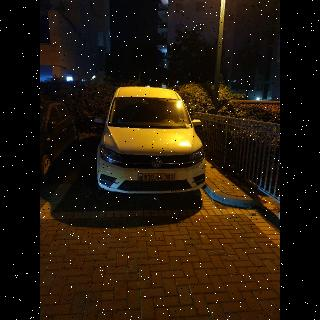LicensePlate: (144, 174, 175, 180)
